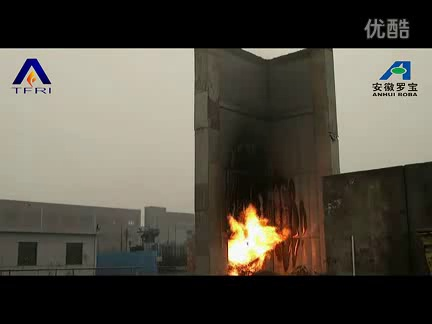fire: (225, 200, 288, 278)
